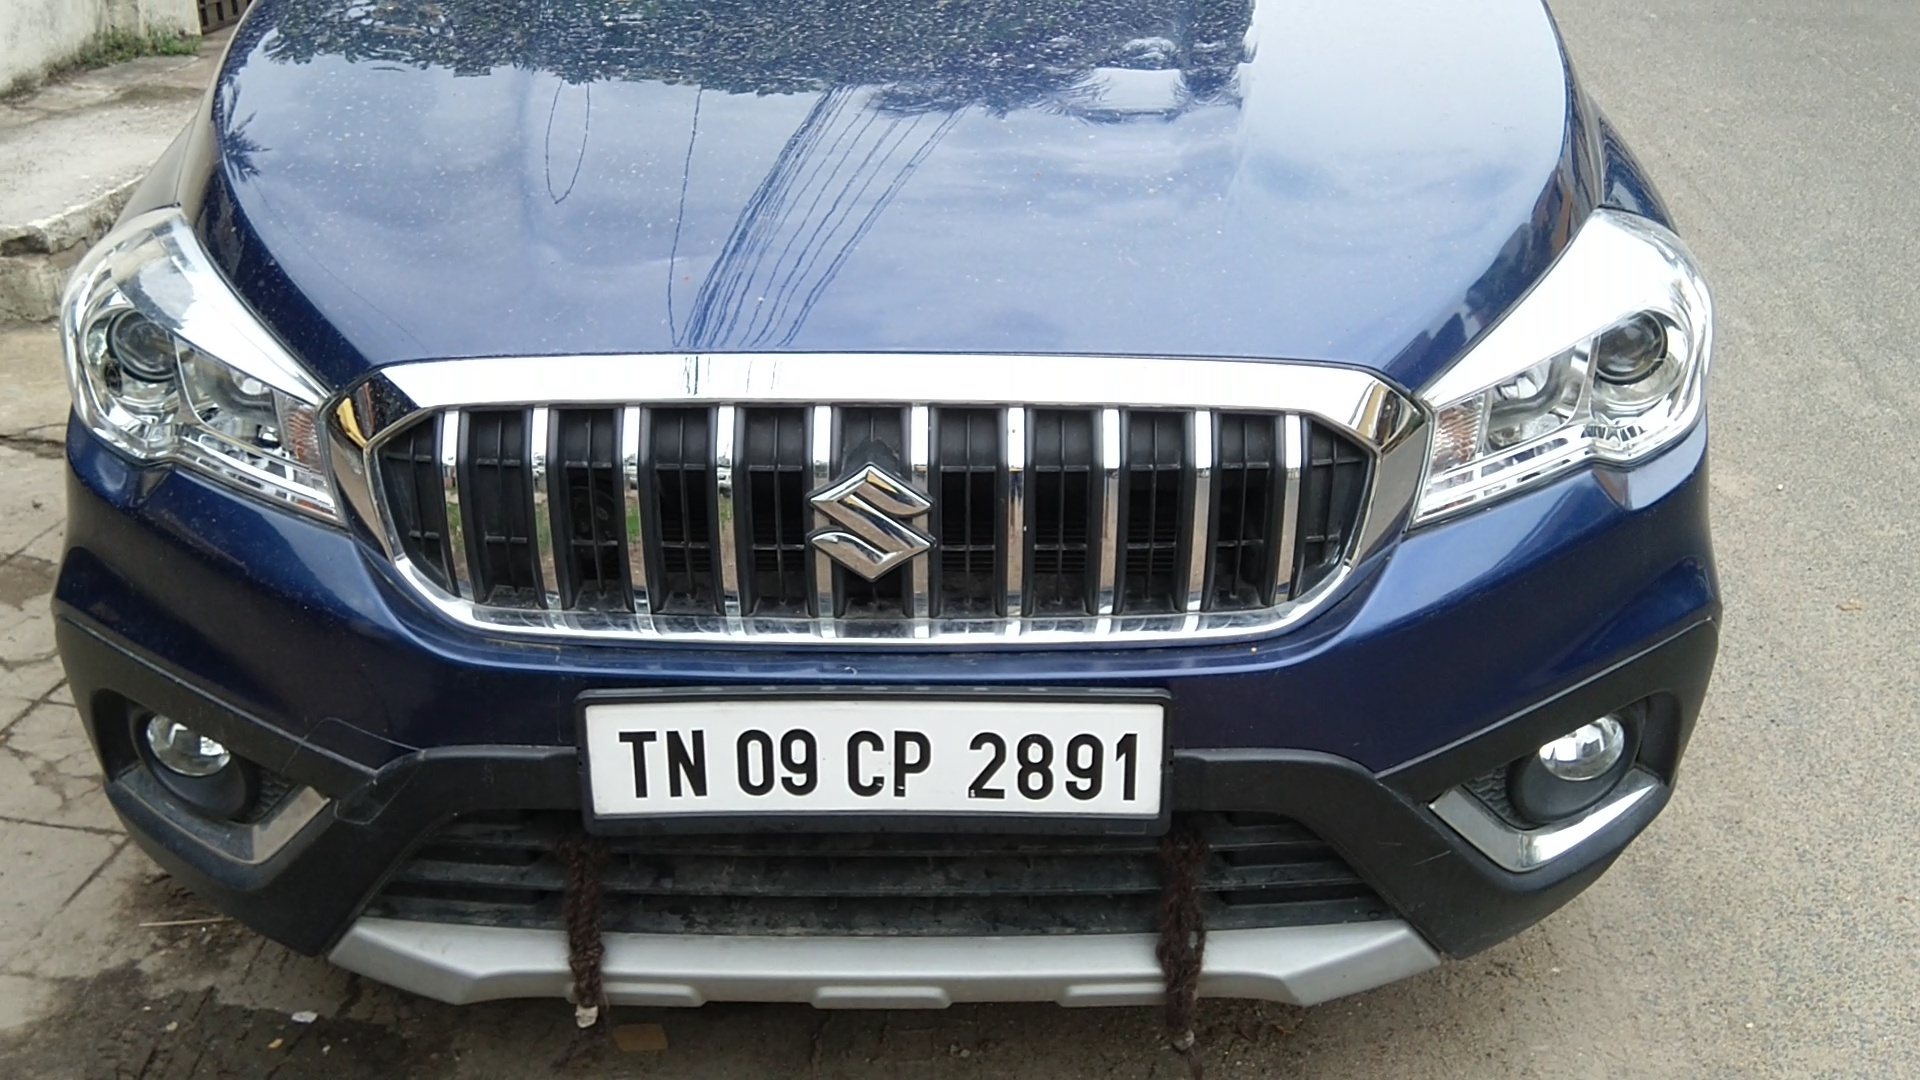front_grill: (332, 352, 1425, 680)
headlamp: (1437, 187, 1714, 534), (55, 199, 335, 541)
